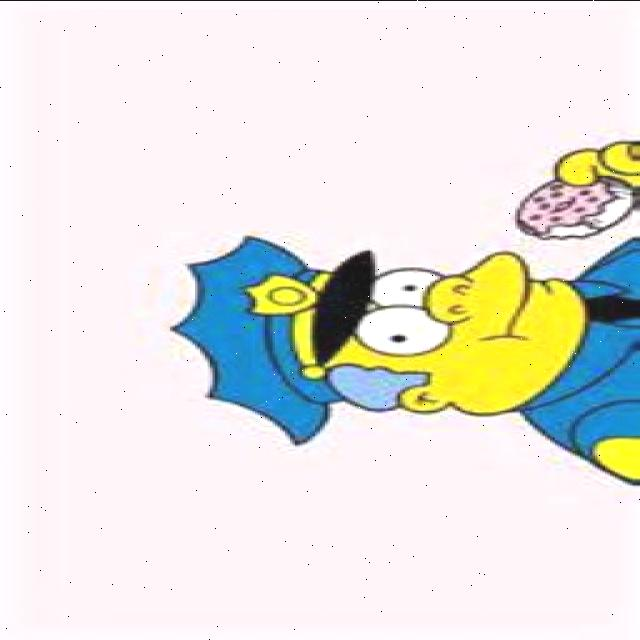Chief Wiggam: (164, 232, 596, 448)
